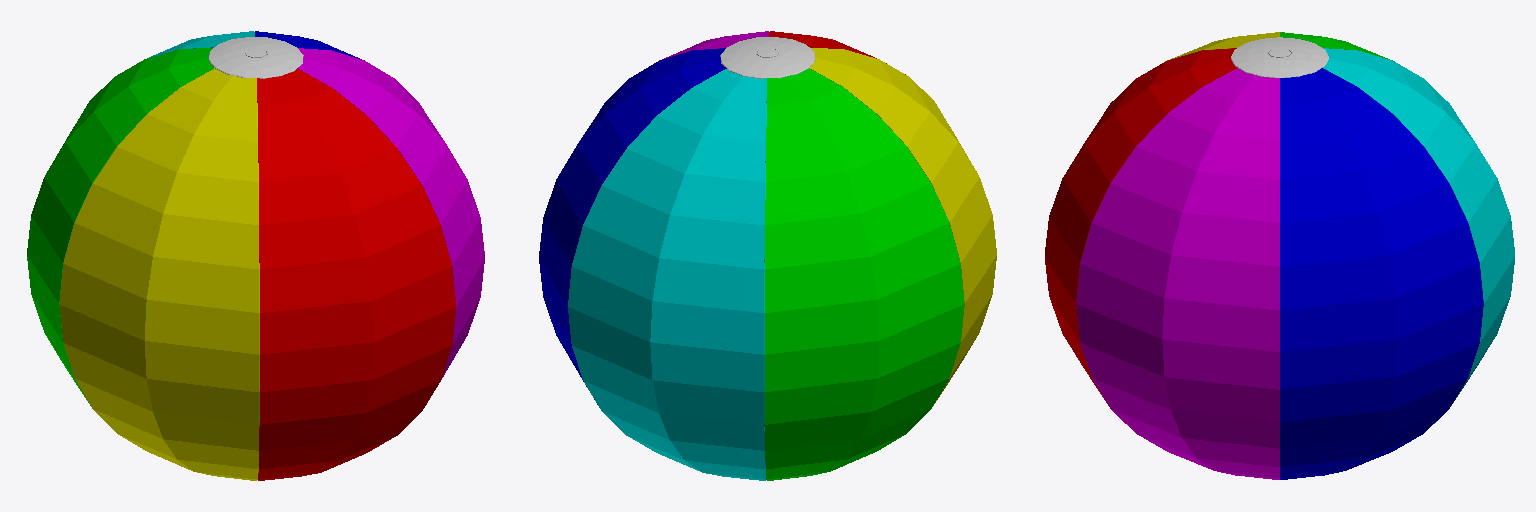
Rendered from BeachBall.obj.
3 views of the same model, side by side, from view 1: azimuth 30°, elevation 25°; view 2: azimuth 150°, elevation 25°; view 3: azimuth 270°, elevation 25° (orthographic).
Visible parts, largest first — view 1: g_BeachBall_Sphere.001; view 2: g_BeachBall_Sphere.001; view 3: g_BeachBall_Sphere.001.
Boxes of the visible parts, x1,y1,x2,y2 form: g_BeachBall_Sphere.001: [27, 31, 484, 480]; g_BeachBall_Sphere.001: [539, 31, 996, 480]; g_BeachBall_Sphere.001: [1045, 32, 1514, 479].
Bounding box in the file's own units: 41.14 × 40.68 × 42.67.